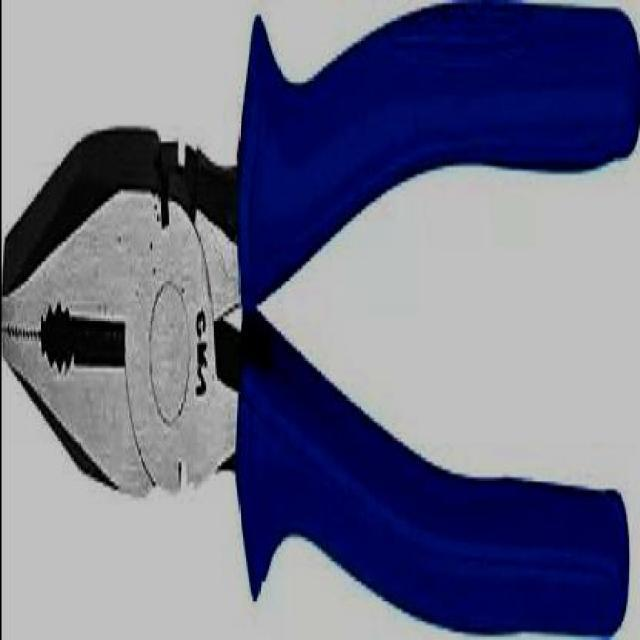pliers: (4, 2, 638, 627)
